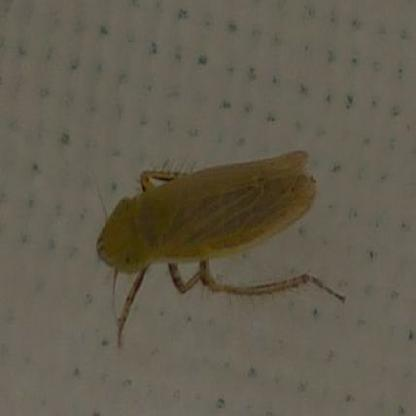green-leafhopper: (98, 110, 348, 342)
